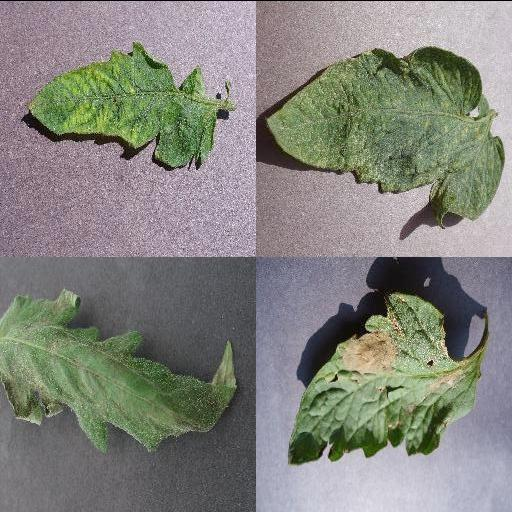Late Blight: (0, 288, 236, 454), (283, 289, 481, 463)
Mosaic Virus: (26, 36, 216, 168)
Spider Mites: (265, 45, 505, 227)
